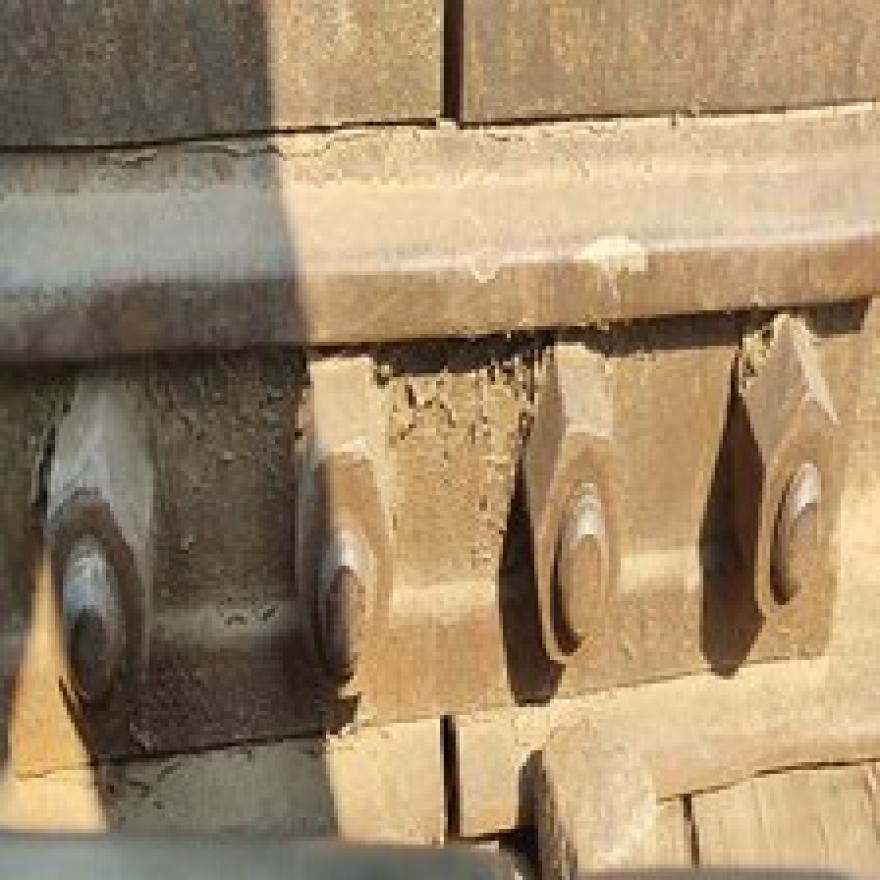railway-gap: (289, 629, 602, 880), (376, 0, 526, 129)
